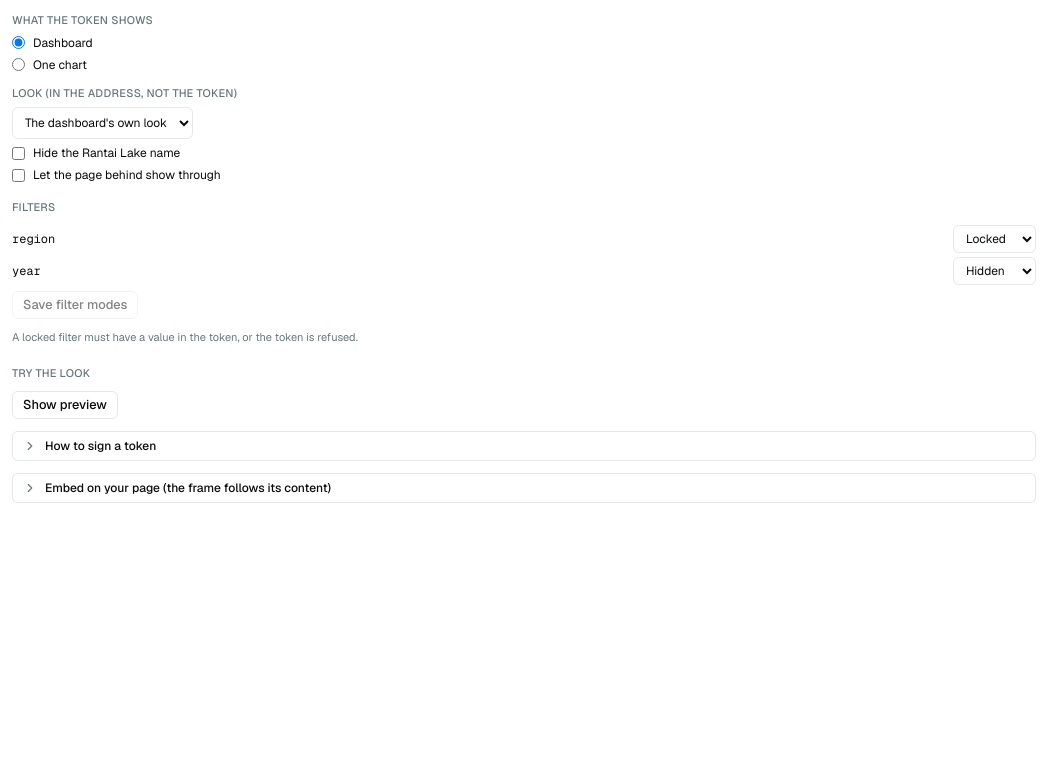
Test: EmbedSettingsPanel (BI-26 D9) › the signing example names every locked filter the token must set
Click the heading "How to sign a token": (90, 446) 23,438 -> 156,454
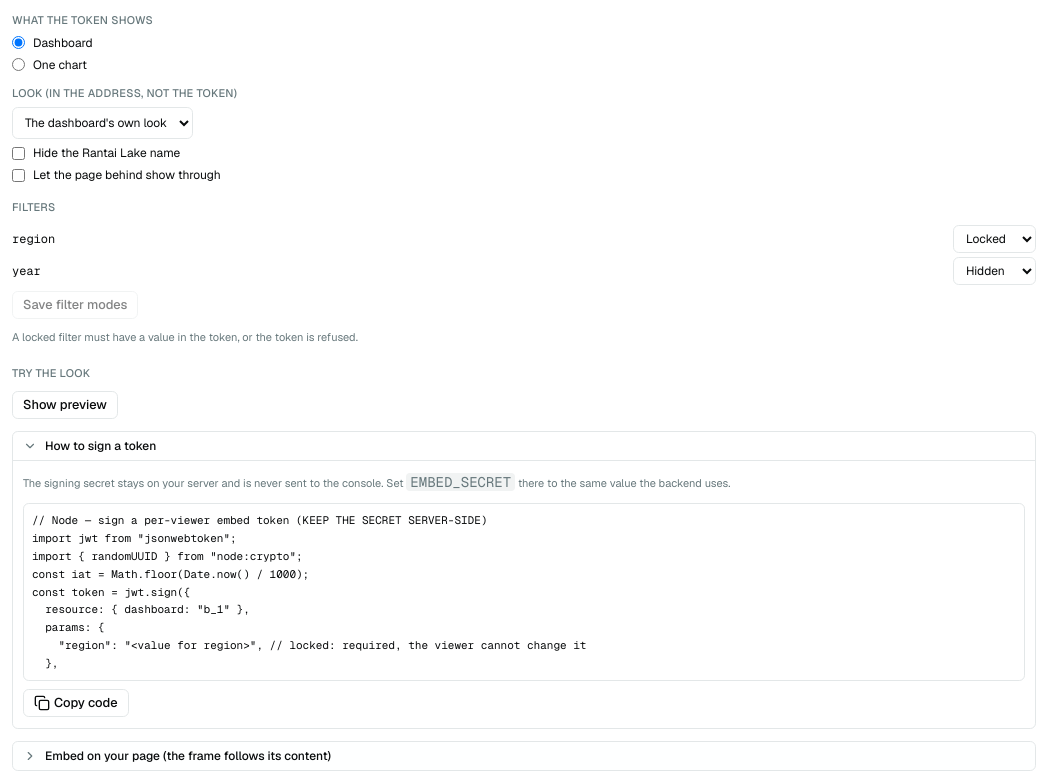
Expected: the text "resource: { dashboard: \"b_1\" }" is shown, 32,513 -> 586,759
